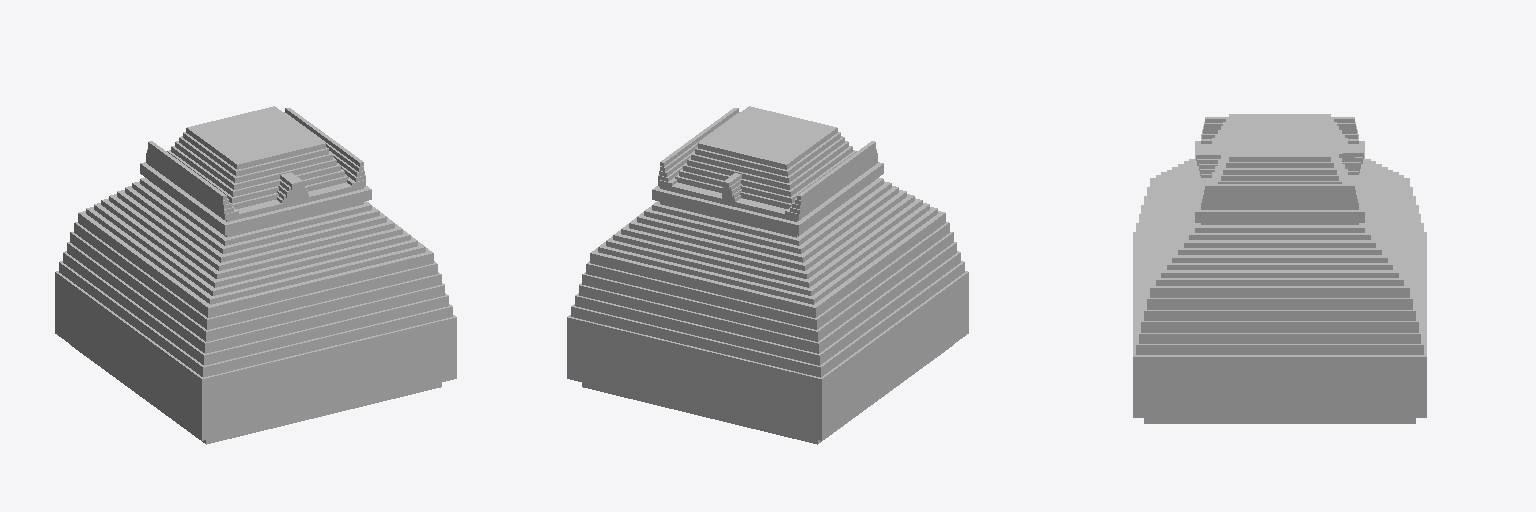
File: boss.obj
3 views of the same model, side by side, from view 1: azimuth 30°, elevation 25°; view 2: azimuth 150°, elevation 25°; view 3: azimuth 270°, elevation 25° (orthographic).
Visible parts, largest first — view 1: obj1; view 2: obj1; view 3: obj1.
Boxes of the visible parts, <box> form: obj1: <box>55,106,456,444</box>; obj1: <box>567,106,968,444</box>; obj1: <box>1133,114,1426,423</box>.
Bounding box in the file's own units: 13 × 11.75 × 13.